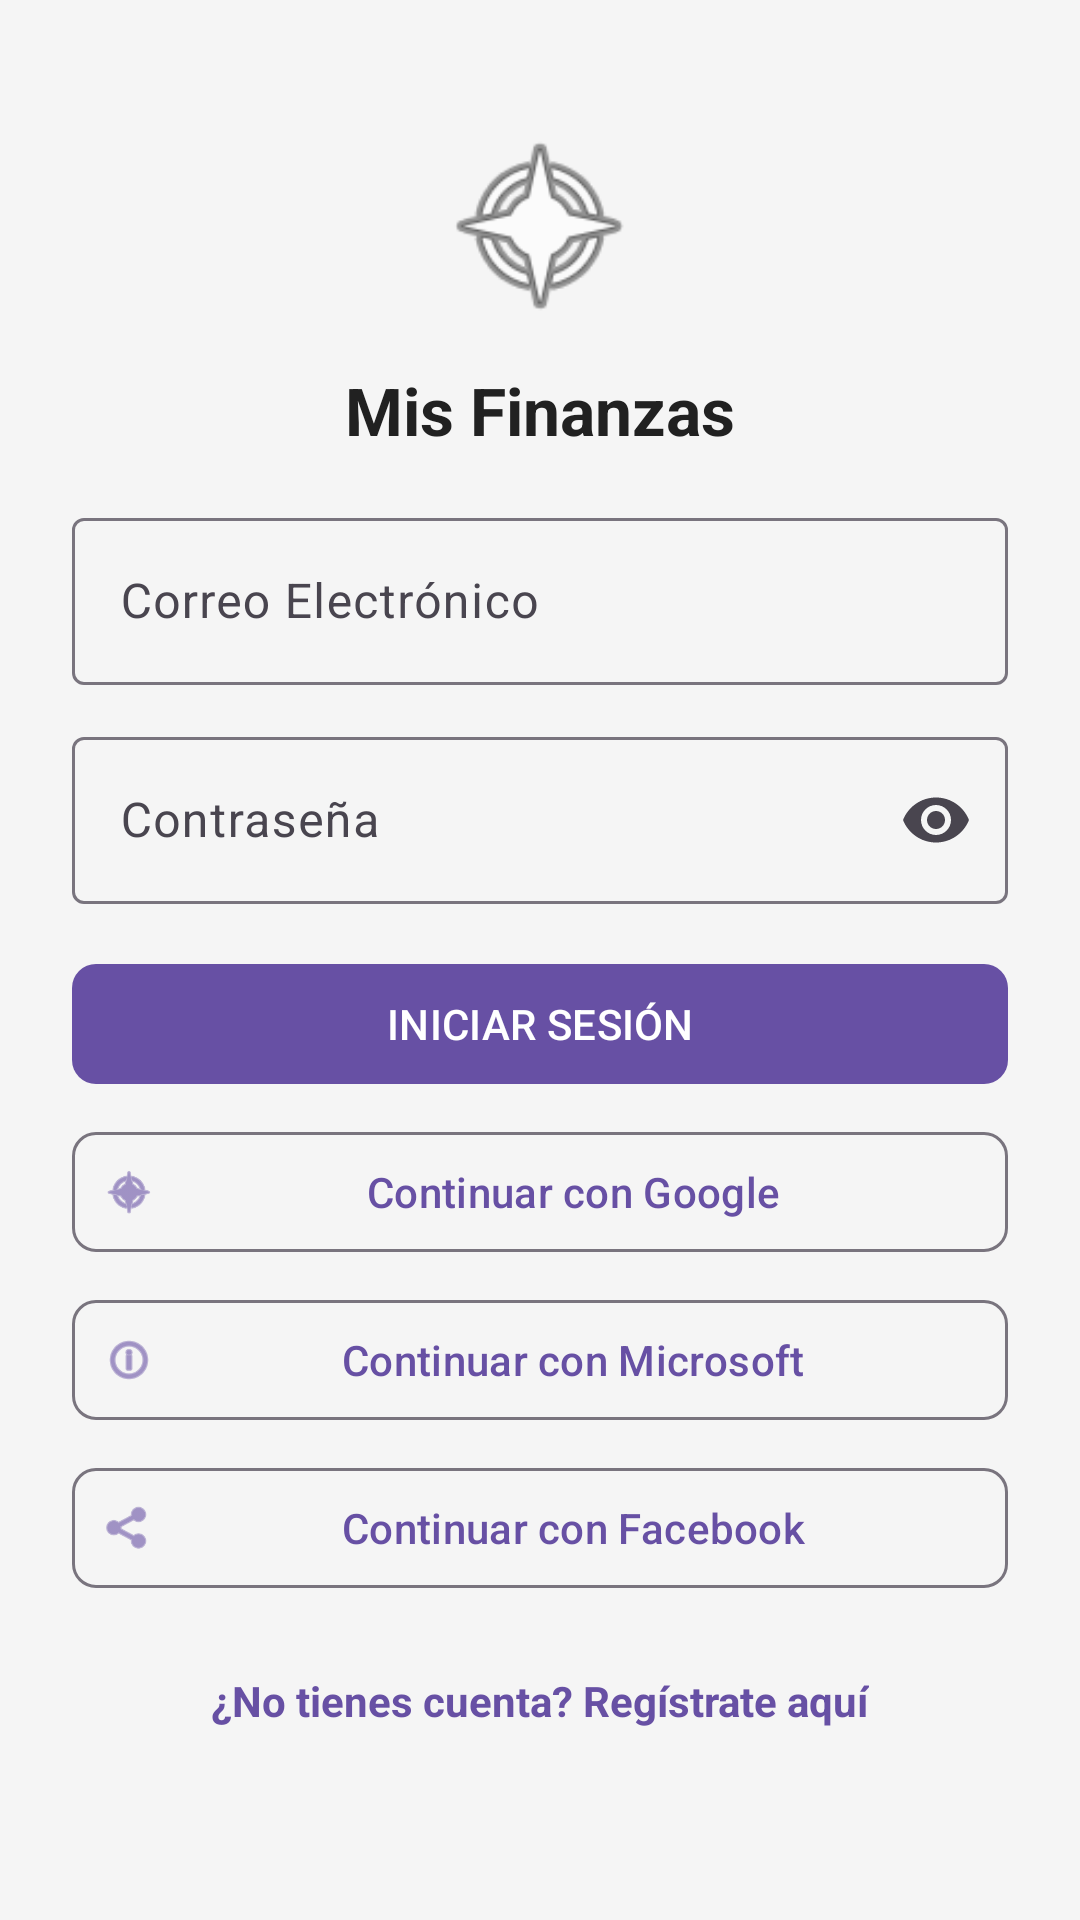

Icon bounding boxes for this 1080w x 1920h phone screenshot, format (x1, y1, x2, y2):
compass: (456, 143, 622, 309)
